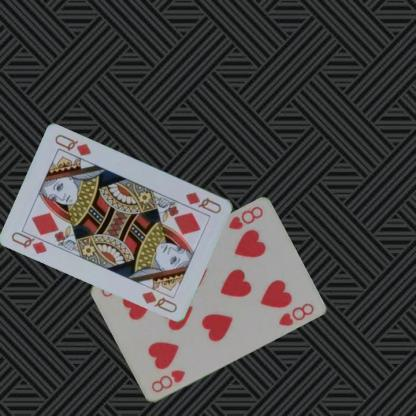8h: (225, 203, 265, 232), (148, 368, 186, 394)
Qd: (9, 227, 54, 255), (182, 189, 223, 215)
